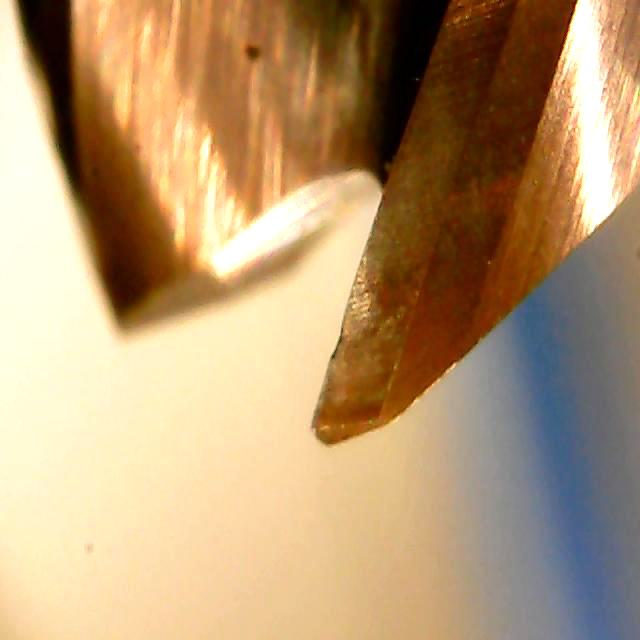Tool-wear-class-1: (289, 277, 431, 452)
